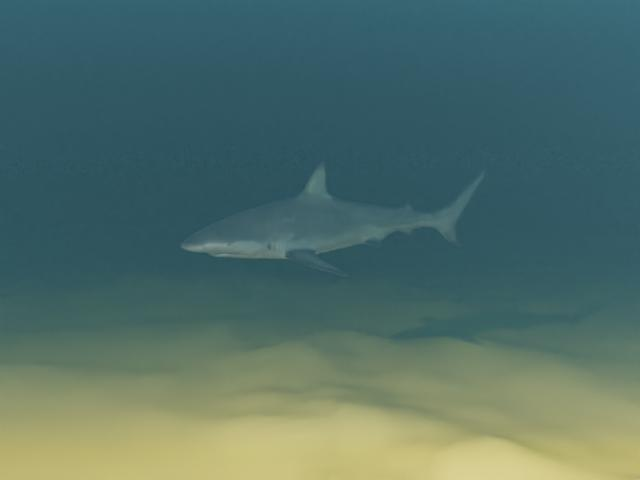Carribean Shark.001: (180, 161, 488, 276)
